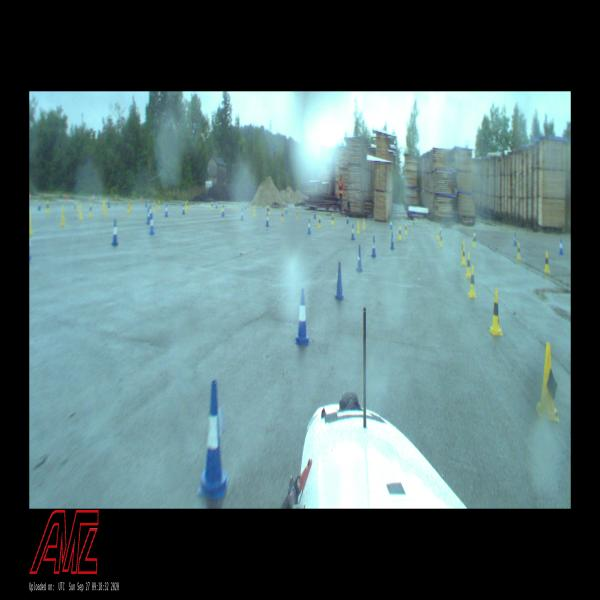blue_cone: (198, 378, 229, 500), (294, 288, 310, 346), (335, 262, 344, 300), (356, 244, 363, 272), (112, 219, 118, 245), (371, 236, 376, 257), (390, 231, 395, 250), (150, 214, 154, 235), (164, 204, 169, 217), (559, 239, 563, 255), (351, 224, 355, 240), (266, 213, 270, 228), (307, 219, 311, 234), (513, 232, 517, 247), (37, 200, 41, 212), (147, 210, 150, 225), (182, 203, 186, 214), (240, 209, 244, 220), (222, 204, 225, 217), (346, 213, 349, 224), (150, 205, 152, 218), (390, 219, 392, 230), (314, 211, 316, 220), (216, 202, 218, 209)
yellow_cone: (536, 342, 559, 422), (488, 288, 503, 336), (468, 265, 476, 297), (465, 252, 471, 278), (544, 251, 550, 273), (461, 244, 467, 265), (78, 204, 83, 221), (517, 242, 521, 260), (61, 208, 65, 226), (439, 232, 443, 247), (398, 226, 402, 240), (46, 201, 50, 214), (356, 221, 360, 234), (89, 204, 93, 217), (103, 203, 107, 215), (318, 215, 321, 229), (281, 209, 284, 222), (363, 217, 366, 230), (331, 213, 334, 225), (436, 228, 439, 240), (404, 223, 407, 235), (153, 201, 156, 212), (472, 236, 475, 247), (253, 206, 256, 216), (211, 202, 214, 210), (128, 203, 130, 214), (267, 205, 269, 214), (158, 201, 160, 209), (186, 201, 188, 209), (130, 201, 132, 209), (220, 204, 222, 212), (462, 240, 463, 256)
